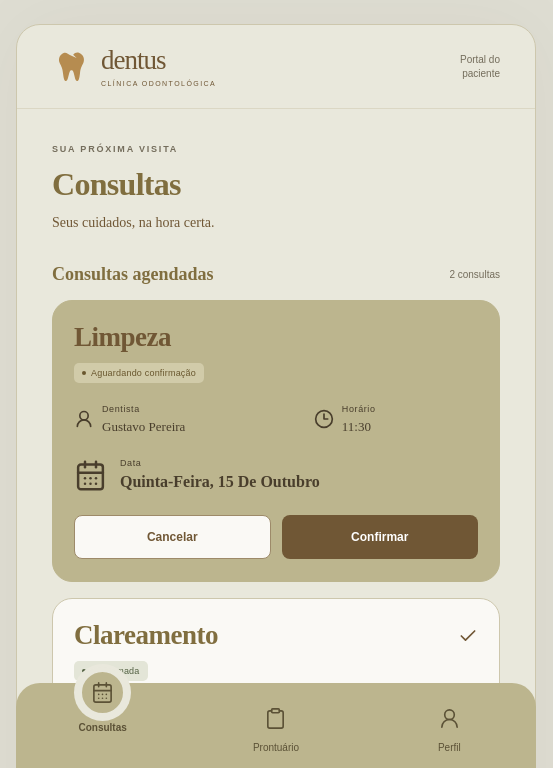
duplo toque aguarda resposta sem anunciar sucesso antecipado
Double-click the button "Confirmar" at x=380, y=538, box [282,516,478,560]
(page scrolled)
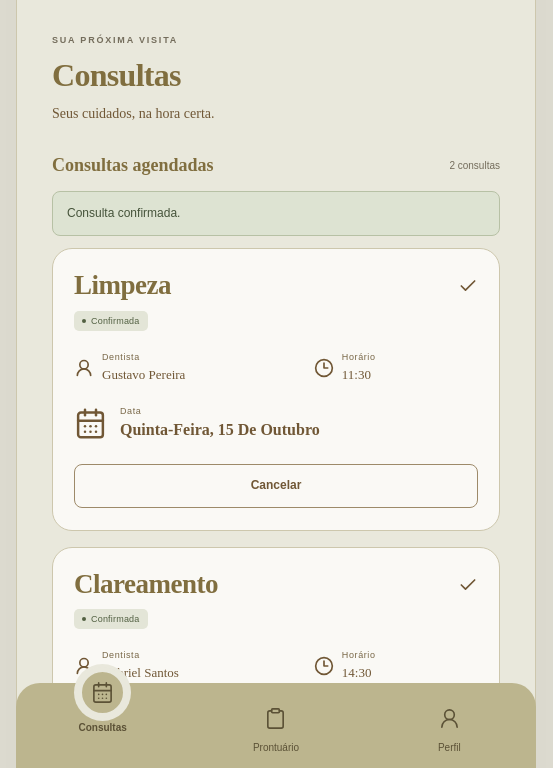
Result: the text "Consulta confirmada." is shown at [52,191,500,236]
